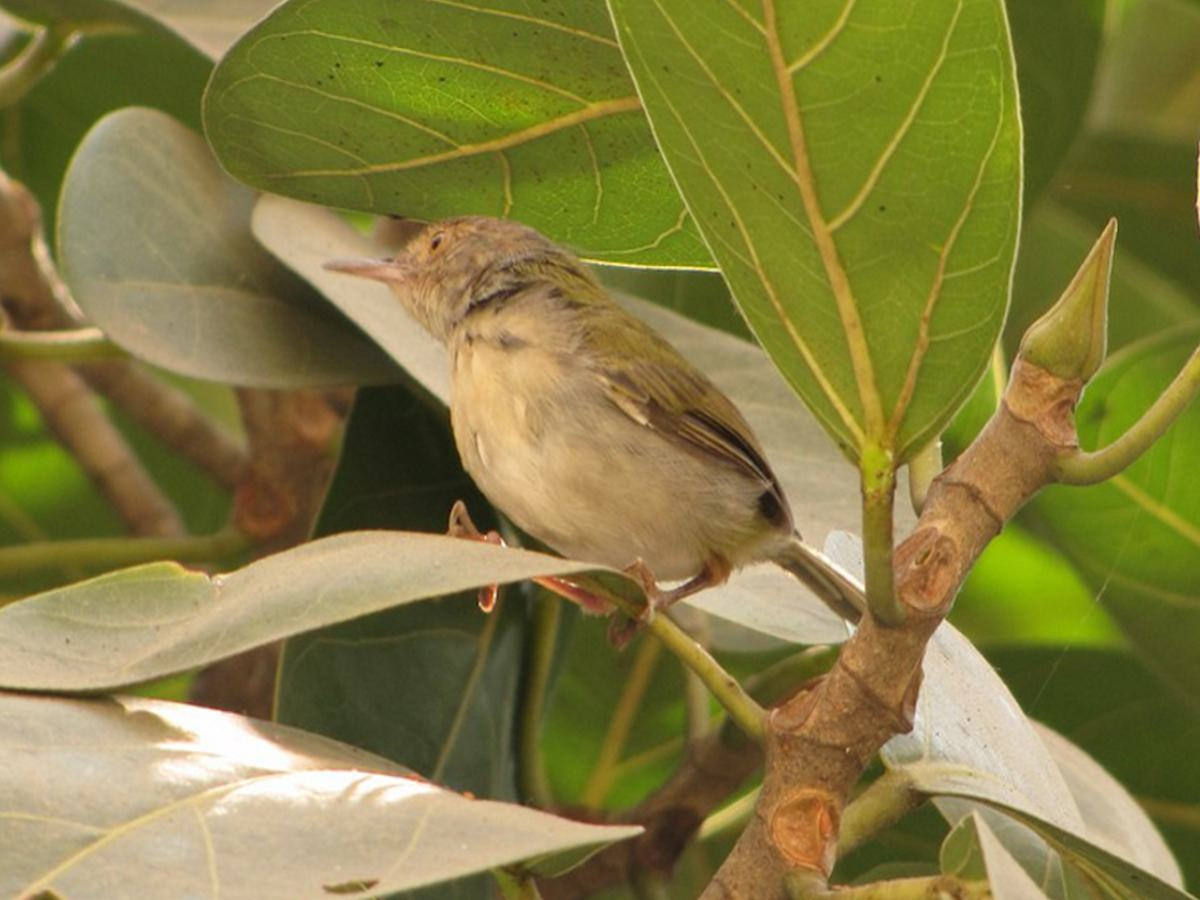tailorbird: (346, 188, 871, 678)
